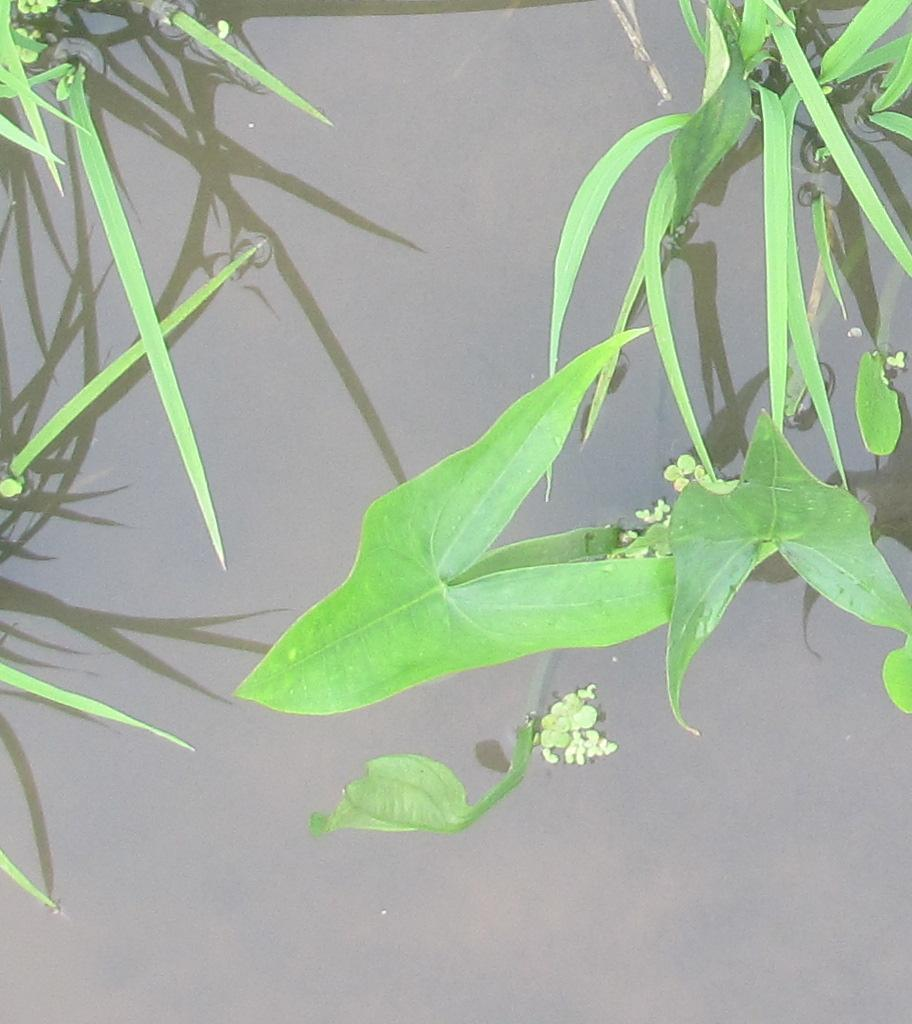Weed: (359, 442, 900, 658), (254, 575, 382, 722), (328, 755, 493, 838)
